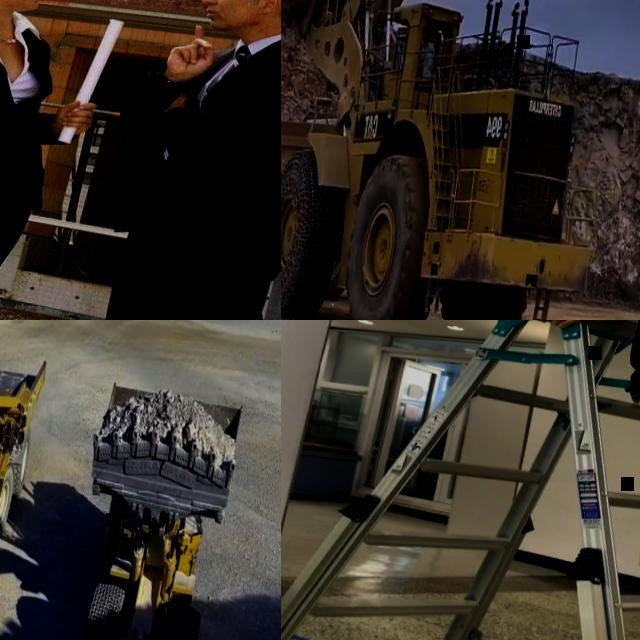NO-Mask: (201, 0, 267, 36), (0, 0, 49, 13)
NO-Safety Vest: (126, 28, 281, 255), (0, 0, 58, 193)
Person: (7, 0, 281, 320), (367, 320, 640, 490), (0, 0, 118, 320)
machinery: (281, 0, 640, 320), (49, 372, 253, 640), (281, 95, 347, 302), (0, 329, 56, 564)
